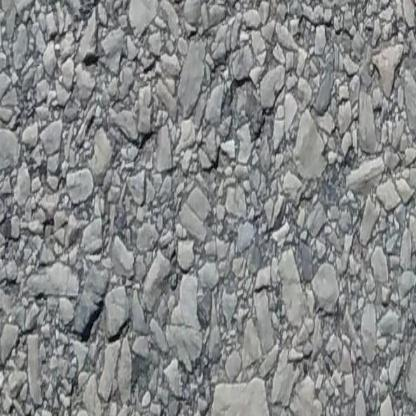Cracks: (128, 0, 268, 9)
